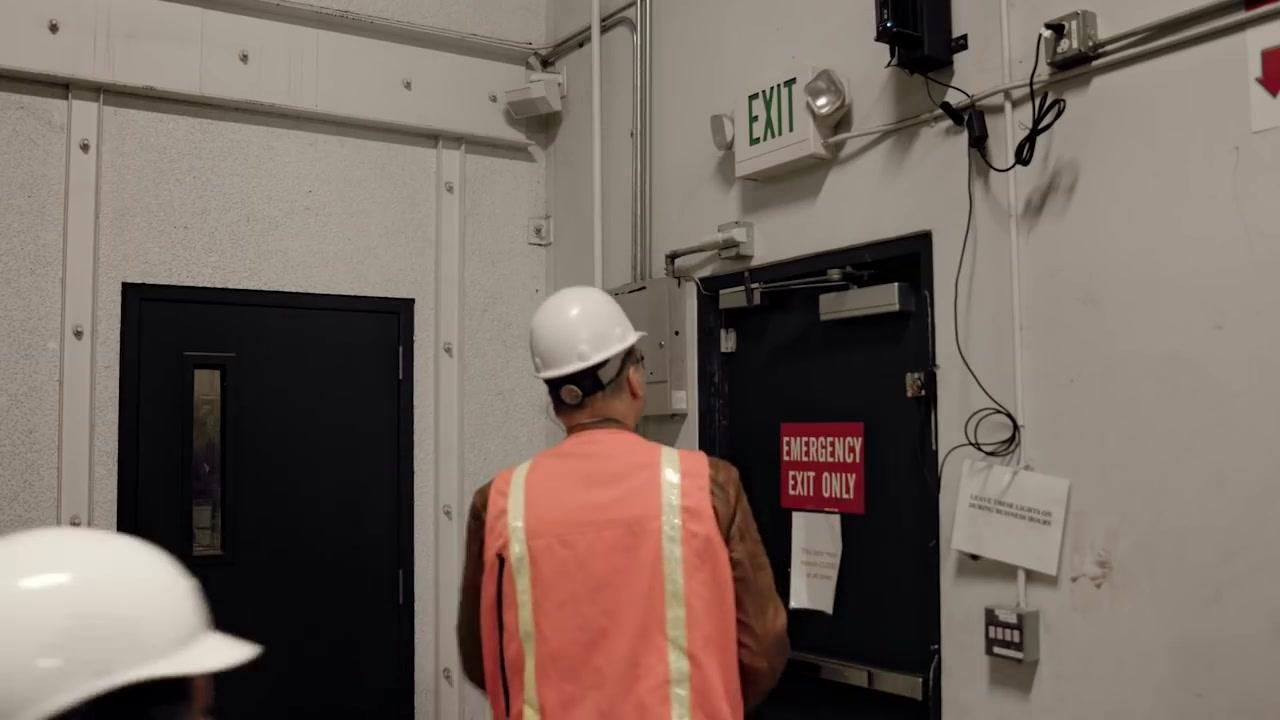vest: (482, 424, 745, 719)
